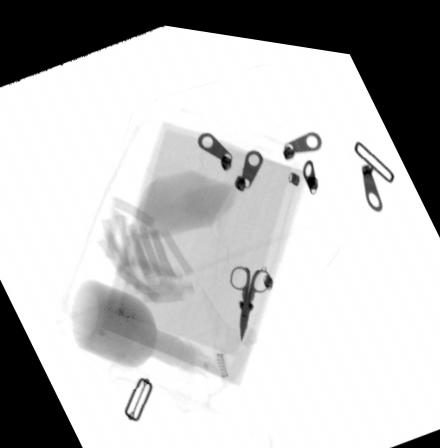Scissors: (230, 258, 271, 334)
